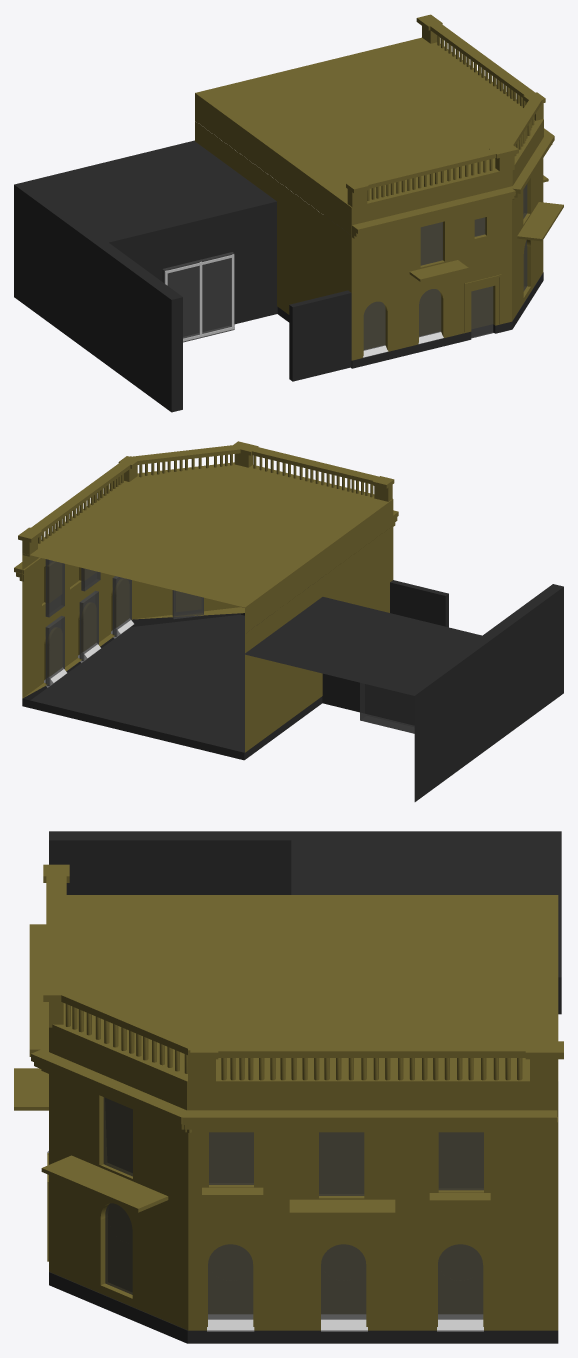
The model's file is edificio 1.fbx.
3 renders of one model, top to bottom at view 1: azimuth 30°, elevation 25°; view 2: azimuth 150°, elevation 25°; view 3: azimuth 270°, elevation 25°, orthographic. The views are drawn at different scales.
Visible parts, largest first — view 1: Parte-2, Arriba, BASE, Extra-2, Ventanas y Puertas, Puerta, Extra-1, PARTE-ABAJO, DecorationPuerta; view 2: Parte-2, Arriba, PARTE-ABAJO, BASE, Extra-2, Ventanas y Puertas, Puerta, Decoration-Abajo, Extra-1; view 3: BASE, Arriba, Parte-2, Ventanas y Puertas, Extra-2, Extra-1, PARTE-ABAJO, Decoration-Abajo.
Part boxes in pixels (x1=…): Parte-2: x1=14, y1=140, x2=351, y2=412; Arriba: x1=195, y1=37, x2=543, y2=235; BASE: x1=195, y1=121, x2=563, y2=360; Extra-2: x1=346, y1=14, x2=545, y2=208; Ventanas y Puertas: x1=363, y1=183, x2=527, y2=350; Puerta: x1=162, y1=252, x2=234, y2=342; Extra-1: x1=352, y1=128, x2=554, y2=238; PARTE-ABAJO: x1=277, y1=228, x2=543, y2=368; DecorationPuerta: x1=165, y1=254, x2=234, y2=341; Parte-2: x1=240, y1=580, x2=563, y2=801; Arriba: x1=22, y1=462, x2=393, y2=633; PARTE-ABAJO: x1=22, y1=613, x2=322, y2=760; BASE: x1=22, y1=526, x2=393, y2=752; Extra-2: x1=18, y1=441, x2=394, y2=556; Ventanas y Puertas: x1=45, y1=559, x2=308, y2=685; Puerta: x1=360, y1=682, x2=414, y2=733; Decoration-Abajo: x1=44, y1=619, x2=133, y2=687; Extra-1: x1=14, y1=510, x2=398, y2=581; BASE: x1=14, y1=1068, x2=558, y2=1330; Arriba: x1=49, y1=895, x2=558, y2=1126; Parte-2: x1=49, y1=831, x2=561, y2=1014; Ventanas y Puertas: x1=103, y1=1097, x2=483, y2=1319; Extra-2: x1=43, y1=864, x2=563, y2=1084; Extra-1: x1=29, y1=924, x2=557, y2=1133; PARTE-ABAJO: x1=49, y1=1272, x2=558, y2=1343; Decoration-Abajo: x1=47, y1=1151, x2=483, y2=1331.
Bounding box in the file's own units: 1252 × 510 × 851.
